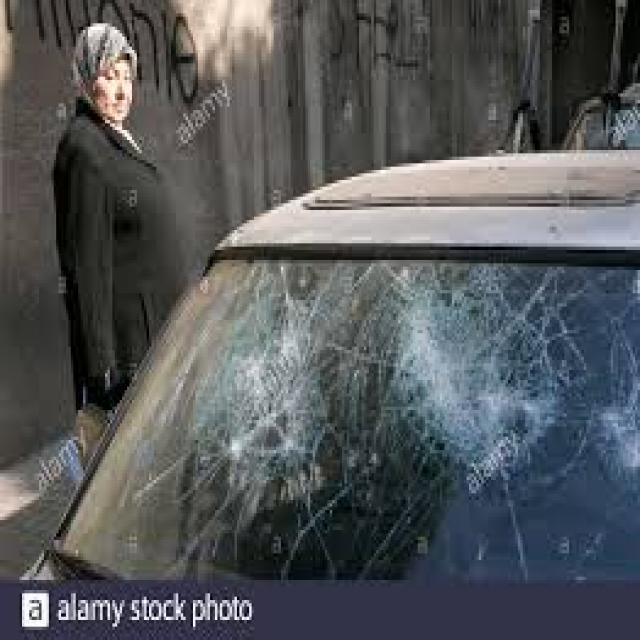damaged-rear-window: (64, 258, 640, 584)
